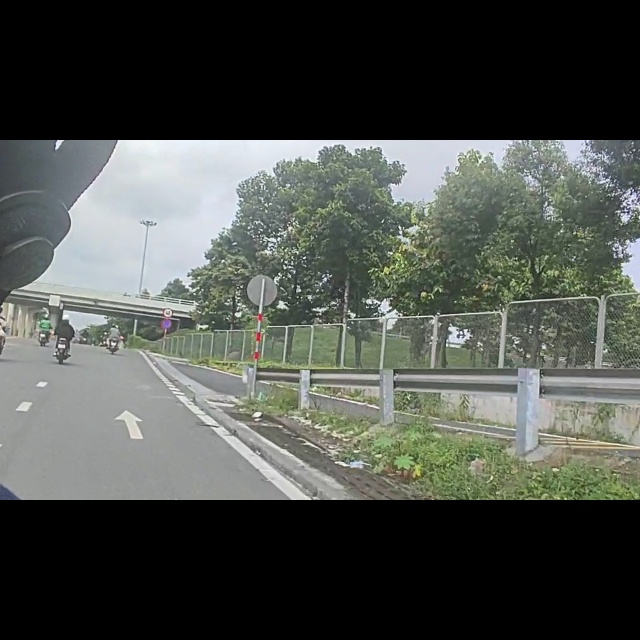bien_cam: (161, 319, 172, 337), (162, 299, 173, 315)
